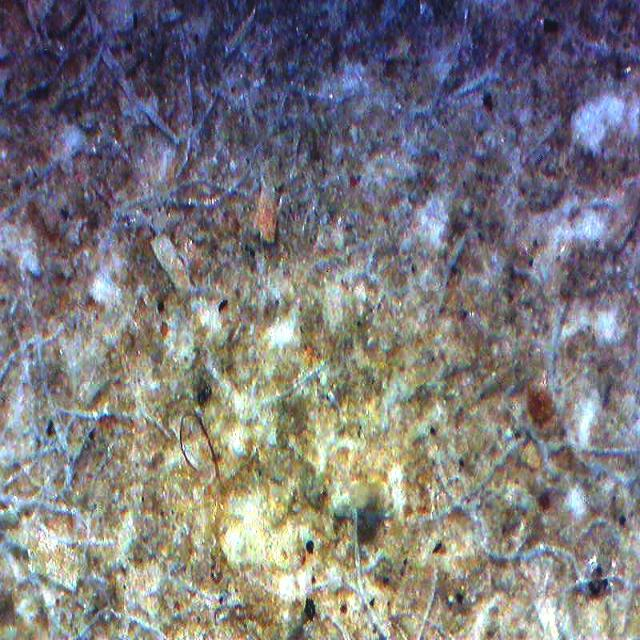microplastic: (180, 413, 216, 470)
